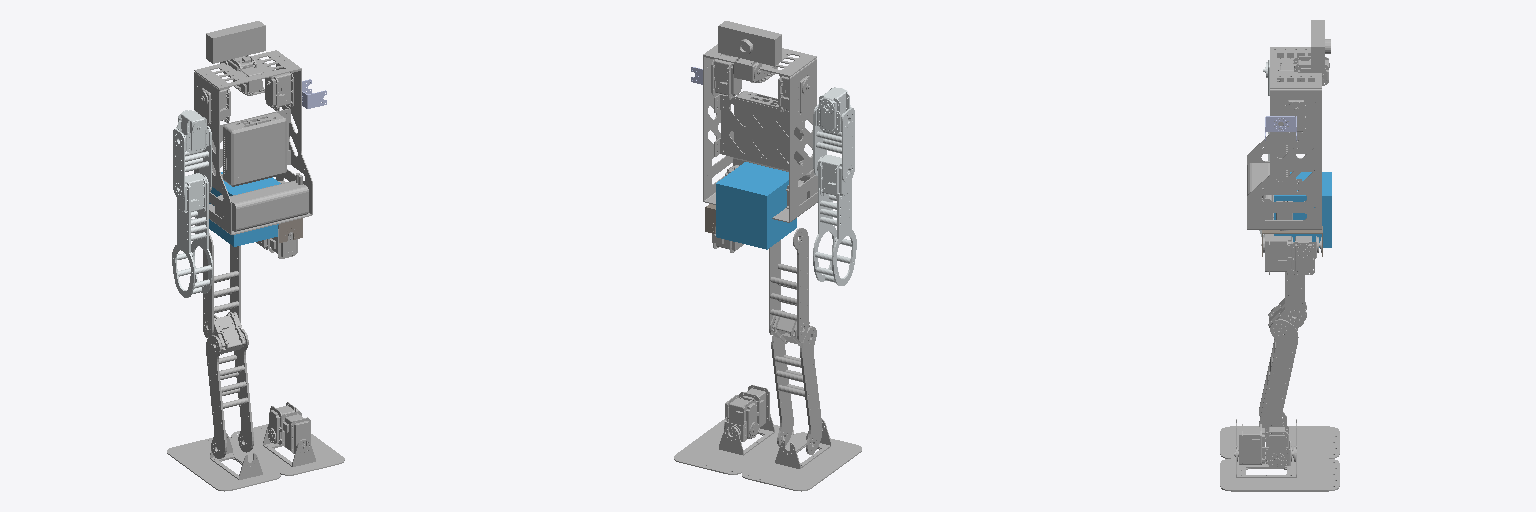
--- What the picture shows (computed from the rendered views, not written in the file) ---
3 views of the same robot in one strip: view 1: azimuth 30°, elevation 25°; view 2: azimuth 150°, elevation 25°; view 3: azimuth 270°, elevation 25° (orthographic).
Robot: SAKURA — 22 links, 21 joints (19 continuous, 1 fixed, 1 floating); root link world; default pose: every joint at zero.
Links seen in each view (by area): view 1: TRUNK, LLEG3, LARM2, LFOOT, LLEG2, LARM1, RFOOT, HEAD, RLEG4, imu_link, RLEG1; view 2: TRUNK, imu_link, LFOOT, LARM2, LLEG3, LLEG2, RFOOT, LARM1, HEAD, RLEG4; view 3: TRUNK, RFOOT, LLEG3, RLEG4, LFOOT, RLEG1, LLEG2, HEAD, imu_link.
Boxes of the visible links, left/top/right/bottom form: TRUNK: left=194, top=50, right=312, bottom=234; LLEG3: left=206, top=329, right=253, bottom=458; LARM2: left=172, top=173, right=212, bottom=297; LFOOT: left=167, top=433, right=280, bottom=491; LLEG2: left=203, top=233, right=245, bottom=354; LARM1: left=173, top=110, right=211, bottom=199; RFOOT: left=231, top=424, right=344, bottom=475; HEAD: left=206, top=21, right=265, bottom=80; RLEG4: left=268, top=402, right=310, bottom=453; imu_link: left=209, top=172, right=280, bottom=246; RLEG1: left=256, top=225, right=297, bottom=258; TRUNK: left=703, top=44, right=817, bottom=222; imu_link: left=716, top=162, right=796, bottom=249; LFOOT: left=742, top=419, right=861, bottom=491; LARM2: left=813, top=155, right=856, bottom=285; LLEG3: left=771, top=326, right=822, bottom=454; LLEG2: left=769, top=228, right=810, bottom=346; RFOOT: left=674, top=414, right=793, bottom=474; LARM1: left=813, top=87, right=854, bottom=182; HEAD: left=718, top=21, right=781, bottom=82; RLEG4: left=724, top=385, right=769, bottom=441; TRUNK: left=1247, top=47, right=1321, bottom=230; RFOOT: left=1220, top=446, right=1339, bottom=491; LLEG3: left=1259, top=306, right=1298, bottom=437; RLEG4: left=1234, top=424, right=1295, bottom=467; LFOOT: left=1220, top=419, right=1339, bottom=458; RLEG1: left=1261, top=234, right=1321, bottom=274; LLEG2: left=1268, top=269, right=1306, bottom=331; HEAD: left=1293, top=20, right=1330, bottom=85; imu_link: left=1274, top=172, right=1331, bottom=247.
Bounding box of the posed robot: 0.291 × 0.208 × 0.8159 m (x, y, z).
12 mesh visuals loaded from 20 distinct referenced files (12 binary STL); not drawn: 8 (reference not matched to a file when rendering).

robot.urdf — SAKURA:
<?xml version="1.0"?>
<robot
  name="SAKURA">	
  <gazebo reference="imu_link">
    <gravity>true</gravity>
    <sensor name="imu_sensor" type="imu">
      <always_on>true</always_on>
      <update_rate>125</update_rate>
      <visualize>true</visualize>
      <topic>__default_topic__</topic>
      <plugin filename="libgazebo_ros_imu_sensor.so" name="imu_plugin">
        <topicName>imu/data_raw</topicName>
        <bodyName>imu_link</bodyName>
        <updateRateHZ>125.0</updateRateHZ>
        <gaussianNoise>0.0</gaussianNoise>
        <xyzOffset>0 0 0</xyzOffset>
        <rpyOffset>0 0 0</rpyOffset>
        <frameName>imu_link</frameName>
      </plugin>
      <pose>0 0 0 0 0 0</pose>
    </sensor>
  </gazebo>
  <gazebo>
    <plugin filename="libgazebo_ros_control.so" name="gazebo_ros_control">
      <robotNamespace>/SAKURA</robotNamespace>
      <robotSimType>gazebo_ros_control/DefaultRobotHWSim</robotSimType>
    </plugin>
  </gazebo>
  <gazebo reference="J_HEAD">
	<stopErp>0.2</stopErp>
	<provideFeedback>true</provideFeedback>
  </gazebo>  
  <gazebo reference="J_LARM0">
	<stopErp>0.2</stopErp>
	<provideFeedback>true</provideFeedback>
  </gazebo>  
  <gazebo reference="J_LARM1">
	<stopErp>0.2</stopErp>
	<provideFeedback>true</provideFeedback>
  </gazebo>  
  <gazebo reference="J_LARM2">
	<stopErp>0.2</stopErp>
	<provideFeedback>true</provideFeedback>
  </gazebo>  
  <gazebo reference="J_RARM0">
	<stopErp>0.2</stopErp>
	<provideFeedback>true</provideFeedback>
  </gazebo>  
  <gazebo reference="J_RARM1">
	<stopErp>0.2</stopErp>
	<provideFeedback>true</provideFeedback>
  </gazebo>  
  <gazebo reference="J_LLEG0">
	<stopErp>0.2</stopErp>
	<provideFeedback>true</provideFeedback>
  </gazebo>  
  <gazebo reference="J_LLEG1">
	<stopErp>0.2</stopErp>
	<provideFeedback>true</provideFeedback>
  </gazebo>  
  <gazebo reference="J_LLEG2">
	<stopErp>0.2</stopErp>
	<provideFeedback>true</provideFeedback>
  </gazebo>  
  <gazebo reference="J_LLEG3">
	<stopErp>0.2</stopErp>
	<provideFeedback>true</provideFeedback>
  </gazebo>  
  <gazebo reference="J_LLEG4">
	<stopErp>0.2</stopErp>
	<provideFeedback>true</provideFeedback>
  </gazebo>  
  <gazebo reference="J_RLEG0">
	<stopErp>0.2</stopErp>
	<provideFeedback>true</provideFeedback>
  </gazebo>  
  <gazebo reference="J_RLEG1">
	<stopErp>0.2</stopErp>
	<provideFeedback>true</provideFeedback>
  </gazebo>  
  <gazebo reference="J_RLEG2">
	<stopErp>0.2</stopErp>
	<provideFeedback>true</provideFeedback>
  </gazebo>  
  <gazebo reference="J_RLEG3">
	<stopErp>0.2</stopErp>
	<provideFeedback>true</provideFeedback>
  </gazebo>  
  <gazebo reference="J_RLEG4">
	<stopErp>0.2</stopErp>
	<provideFeedback>true</provideFeedback>
  </gazebo> 
  <gazebo reference="J_RARM2">
	<stopErp>0.2</stopErp>
	<provideFeedback>true</provideFeedback>
  </gazebo> 
  <gazebo reference="J_LFOOT">
	<stopErp>0.2</stopErp>
	<provideFeedback>true</provideFeedback>
  </gazebo>  
  <gazebo reference="J_RFOOT">
	<stopErp>0.2</stopErp>
	<provideFeedback>true</provideFeedback>
  </gazebo>  
  <gazebo reference="RFOOT">
    <mu1>1.0</mu1>
    <mu2>1.0</mu2>
    <kp>1220000.0</kp>
    <kd>1.0</kd> <!---->
  </gazebo>
  <gazebo reference="LFOOT">
    <mu1>1.0</mu1>
    <mu2>1.0</mu2>
    <kp>1220000.0</kp>
    <kd>1.0</kd> <!---->
  </gazebo>
  
<!-- FT SENSORS -->
  <gazebo>
	<plugin name="ft_sensor" filename="libgazebo_ros_ft_sensor.so">
	  <updateRate>100.0</updateRate>
	  <topicName>ft_sensor_larm0</topicName>
	  <jointName>J_LARM0</jointName>
	</plugin>
  </gazebo>
  <gazebo>
	<plugin name="ft_sensor" filename="libgazebo_ros_ft_sensor.so">
	  <updateRate>100.0</updateRate>
	  <topicName>ft_sensor_larm1</topicName>
	  <jointName>J_LARM1</jointName>
	</plugin>
  </gazebo>
  <gazebo>
	<plugin name="ft_sensor" filename="libgazebo_ros_ft_sensor.so">
	  <updateRate>100.0</updateRate>
	  <topicName>ft_sensor_larm2</topicName>
	  <jointName>J_LARM2</jointName>
	</plugin>
  </gazebo>
  
  
    <gazebo>
	<plugin name="ft_sensor" filename="libgazebo_ros_ft_sensor.so">
	  <updateRate>100.0</updateRate>
	  <topicName>ft_sensor_rarm0</topicName>
	  <jointName>J_RARM0</jointName>
	</plugin>
  </gazebo>
  <gazebo>
	<plugin name="ft_sensor" filename="libgazebo_ros_ft_sensor.so">
	  <updateRate>100.0</updateRate>
	  <topicName>ft_sensor_rarm1</topicName>
	  <jointName>J_RARM1</jointName>
	</plugin>
  </gazebo>
  <gazebo>
	<plugin name="ft_sensor" filename="libgazebo_ros_ft_sensor.so">
	  <updateRate>100.0</updateRate>
	  <topicName>ft_sensor_rarm2</topicName>
	  <jointName>J_RARM2</jointName>
	</plugin>
  </gazebo>
  
  
  
  <gazebo>
	<plugin name="ft_sensor" filename="libgazebo_ros_ft_sensor.so">
	  <updateRate>100.0</updateRate>
	  <topicName>ft_sensor_lleg0</topicName>
	  <jointName>J_LLEG0</jointName>
	</plugin>
  </gazebo>
    <gazebo>
	<plugin name="ft_sensor" filename="libgazebo_ros_ft_sensor.so">
	  <updateRate>100.0</updateRate>
	  <topicName>ft_sensor_lleg1</topicName>
	  <jointName>J_LLEG1</jointName>
	</plugin>
  </gazebo>
    <gazebo>
	<plugin name="ft_sensor" filename="libgazebo_ros_ft_sensor.so">
	  <updateRate>100.0</updateRate>
	  <topicName>ft_sensor_lleg2</topicName>
	  <jointName>J_LLEG2</jointName>
	</plugin>
  </gazebo>
    <gazebo>
	<plugin name="ft_sensor" filename="libgazebo_ros_ft_sensor.so">
	  <updateRate>100.0</updateRate>
	  <topicName>ft_sensor_lleg3</topicName>
	  <jointName>J_LLEG3</jointName>
	</plugin>
  </gazebo>
    <gazebo>
	<plugin name="ft_sensor" filename="libgazebo_ros_ft_sensor.so">
	  <updateRate>100.0</updateRate>
	  <topicName>ft_sensor_lleg4</topicName>
	  <jointName>J_LLEG4</jointName>
	</plugin>
  </gazebo>
    <gazebo>
	<plugin name="ft_sensor" filename="libgazebo_ros_ft_sensor.so">
	  <updateRate>100.0</updateRate>
	  <topicName>ft_sensor_lfoot</topicName>
	  <jointName>J_LFOOT</jointName>
	</plugin>
  </gazebo>
  
    <gazebo>
	<plugin name="ft_sensor" filename="libgazebo_ros_ft_sensor.so">
	  <updateRate>100.0</updateRate>
	  <topicName>ft_sensor_rleg0</topicName>
	  <jointName>J_RLEG0</jointName>
	</plugin>
  </gazebo>
    <gazebo>
	<plugin name="ft_sensor" filename="libgazebo_ros_ft_sensor.so">
	  <updateRate>100.0</updateRate>
	  <topicName>ft_sensor_rleg1</topicName>
	  <jointName>J_RLEG1</jointName>
	</plugin>
  </gazebo>
    <gazebo>
	<plugin name="ft_sensor" filename="libgazebo_ros_ft_sensor.so">
	  <updateRate>100.0</updateRate>
	  <topicName>ft_sensor_rleg2</topicName>
	  <jointName>J_RLEG2</jointName>
	</plugin>
  </gazebo>
    <gazebo>
	<plugin name="ft_sensor" filename="libgazebo_ros_ft_sensor.so">
	  <updateRate>100.0</updateRate>
	  <topicName>ft_sensor_rleg3</topicName>
	  <jointName>J_RLEG3</jointName>
	</plugin>
  </gazebo>
    <gazebo>
	<plugin name="ft_sensor" filename="libgazebo_ros_ft_sensor.so">
	  <updateRate>100.0</updateRate>
	  <topicName>ft_sensor_rleg4</topicName>
	  <jointName>J_RLEG4</jointName>
	</plugin>
  </gazebo>
    <gazebo>
	<plugin name="ft_sensor" filename="libgazebo_ros_ft_sensor.so">
	  <updateRate>100.0</updateRate>
	  <topicName>ft_sensor_rfoot</topicName>
	  <jointName>J_RFOOT</jointName>
	</plugin>
  </gazebo>
  
  
  

  <link name="world">  </link>
  
  <link name="imu_link">
    <collision>
      <origin xyz="0 0 0" rpy="0 0 0"/>
      <geometry>
    <box size="0.1 0.1 0.1"/>
      </geometry>
    </collision>

    <visual>
      <origin xyz="0 0 0" rpy="0 0 0"/>
      <geometry>
    <box size="0.1 0.1 0.1"/>
      </geometry>
      <material name="red"/>
    </visual>

    <inertial>
      <mass value="1e-5" />
      <origin xyz="0 0 0" rpy="0 0 0"/>
      <inertia ixx="1e-6" ixy="0" ixz="0" iyy="1e-6" iyz="0" izz="1e-6" />
    </inertial>
  </link>
  <joint name="imu_joint" type="fixed">
    <axis xyz="0 1 0" />
    <origin xyz="0 0 0" rpy="0 0 0"/>
    <parent link="TRUNK"/>
    <child link="imu_link"/>
  </joint>
  
  
  
  
  <link
    name="TRUNK">
    <inertial>
      <origin
        xyz="-0.000142944293532541 -0.0159940135836359 0.119253638413231"
        rpy="0 0 0" />
      <mass
        value="1.4778155091901" />
      <inertia
        ixx="0.0125398154437975"
        ixy="-2.68478156217668E-06"
        ixz="-7.17353402812125E-06"
        iyy="0.016695640033345"
        iyz="0.000776177026664091"
        izz="0.01567882258573842" />
    </inertial>
    <visual>
      <origin
        xyz="0 0 0"
        rpy="0 0 0" />
      <geometry>
        <mesh
          filename="package://sakura_description/meshes/TRUNK.STL" />
      </geometry>
      <material
        name="">
        <color
          rgba="0.752941176470588 0.752941176470588 0.752941176470588 1" />
      </material>
    </visual>
  </link>
  <joint name="fixed" type="floating">
    <parent link="world"/>
    <child link="TRUNK"/>
    <origin xyz="0 0 0.50" rpy="0 0 0"/>
  </joint>
  <link
    name="HEAD">
    <inertial>
      <origin
        xyz="-0.0038811 0.012249 0.048965"
        rpy="0 0 0" />
      <mass
        value="0.21462" />
      <inertia
        ixx="0.00110122"
        ixy="8.917E-07"
        ixz="4.6738E-06"
        iyy="0.001"
        iyz="-1.8633E-05"
        izz="0.001" />
    </inertial>
    <visual>
      <origin
        xyz="0 0 0"
        rpy="0 0 0" />
      <geometry>
        <mesh
          filename="package://sakura_description/meshes/HEAD.STL" />
      </geometry>
      <material
        name="">
        <color
          rgba="0.75294 0.75294 0.75294 1" />
      </material>
    </visual>
  </link>
  <joint
    name="J_HEAD"
    type="continuous">
    <origin
      xyz="0.0016 0.01125 0.2484"
      rpy="-1.2005E-15 -9.4278E-17 -2.3904E-16" />
    <parent
      link="TRUNK" />
    <child
      link="HEAD" />
    <axis
      xyz="0 0 1" />
    <limit
      effort="10"
      velocity="8.58" />
    <dynamics 
	  damping="0.7"
	  friction="0.5"/>
  </joint>
  <link
    name="LARM0">
    <inertial>
      <origin
        xyz="4.16333634234434E-17 2.77555756156289E-17 0.0103025666414173"
        rpy="0 0 0" />
      <mass
        value="0.0066175226097181" />
      <inertia
        ixx="1.E-03"
        ixy="0"
        ixz="0"
        iyy="1.E-03"
        iyz="0"
        izz="1.E-03" />
    </inertial>
    <visual>
      <origin
        xyz="0 0 0"
        rpy="0 0 0" />
      <geometry>
        <mesh
          filename="package://sakura_description/meshes/LARM0.STL" />
      </geometry>
      <material
        name="">
        <color
          rgba="0.792156862745098 0.819607843137255 0.933333333333333 1" />
      </material>
    </visual>
  </link>
  <joint
    name="J_LARM0"
    type="continuous">
    <origin
      xyz="-0.0935 -0.038 0.209"
      rpy="1.5708 3.14159 -1.5708" />
    <parent
      link="TRUNK" />
    <child
      link="LARM0" />
    <axis
      xyz="0 0 -1" />
    <limit
      effort="10"
      velocity="8.58" />
    <dynamics 
     damping="0.7"
     friction="0.5"/>
  </joint>
  <link
    name="LARM1">
    <inertial>
      <origin
        xyz="-0.000203905909046856 -0.0358166170046635 -0.030724518771744"
        rpy="0 0 0" />
      <mass
        value="0.386889741732442" />
      <inertia
        ixx="0.001319462933467775"
        ixy="-7.00859671208955E-06"
        ixz="-6.33921748509821E-09"
        iyy="0.001"
        iyz="6.46973244600118E-07"
        izz="0.001386423060557297" />
    </inertial>
    <visual>
      <origin
        xyz="0 0 0"
        rpy="0 0 0" />
      <geometry>
        <mesh
          filename="package://sakura_description/meshes/LARM1.STL" />
      </geometry>
      <material
        name="">
        <color
          rgba="0.898039215686275 0.92156862745098 0.929411764705882 1" />
      </material>
    </visual>
  </link>
  <joint
    name="J_LARM1"
    type="continuous">
    <origin
      xyz="-0.0308 0 0.036"
      rpy="3.1416 1.5708 0" />
    <parent
      link="LARM0" />
    <child
      link="LARM1" />
    <axis
      xyz="0 0 1" />
    <limit
      effort="10"
      velocity="8.58" />
        <dynamics 
     damping="0.7"
     friction="0.5"/>
  </joint>
  <link
    name="LARM2">
    <inertial>
      <origin
        xyz="-0.000946892853796732 -0.0604743903550126 -0.030549305382329"
        rpy="0 0 0" />
      <mass
        value="0.417770884687889" />
      <inertia
        ixx="0.00130365609096481"
        ixy="-2.20058971275383E-05"
        ixz="-1.13235654810576E-07"
        iyy="0.001"
        iyz="-4.76741794550902E-06"
        izz="0.00130522583526536" />
    </inertial>
    <visual>
      <origin
        xyz="0 0 0"
        rpy="0 0 0" />
      <geometry>
        <mesh
          filename="package://sakura_description/meshes/LARM2.STL" />
      </geometry>
      <material
        name="">
        <color
          rgba="0.898039215686275 0.92156862745098 0.929411764705882 1" />
      </material>
    </visual>
  </link>
  <joint
    name="J_LARM2"
    type="continuous">
    <origin
      xyz="0.0307 -0.1235 -0.0308"
      rpy="0 1.5708 0" />
    <parent
      link="LARM1" />
    <child
      link="LARM2" />
    <axis
      xyz="0 0 1" />
    <limit
      effort="10"
      velocity="8.58" />
        <dynamics 
     damping="0.7"
     friction="0.5"/>
  </joint>
  <link
    name="RARM0">
    <inertial>
      <origin
        xyz="-4.16333634234434E-17 0 0.0103025666414173"
        rpy="0 0 0" />
      <mass
        value="0.00661752260971814" />
      <inertia
        ixx="1.E-03"
        ixy="0"
        ixz="0"
        iyy="1.E-03"
        iyz="0"
        izz="1.E-03" />
    </inertial>
    <visual>
      <origin
        xyz="0 0 0"
        rpy="0 0 0" />
      <geometry>
        <mesh
          filename="package://sakura_description/meshes/RARM0.STL" />
      </geometry>
      <material
        name="">
        <color
          rgba="0.792156862745098 0.819607843137255 0.933333333333333 1" />
      </material>
    </visual>
  </link>
  <joint
    name="J_RARM0"
    type="continuous">
    <origin
      xyz="0.0935 -0.038 0.209"
      rpy="-1.5708 -6.1121E-16 -1.5708" />
    <parent
      link="TRUNK" />
    <child
      link="RARM0" />
    <axis
      xyz="0 0 1" />
    <limit
      effort="10"
      velocity="8.58" />
        <dynamics 
     damping="0.7"
     friction="0.5"/>
  </joint>
  <link
    name="RARM1">
    <inertial>
      <origin
        xyz="-0.00020391 -0.035817 -0.030725"
        rpy="0 0 0" />
      <mass
        value="0.38689" />
      <inertia
        ixx="0.00131946"
        ixy="-7.0086E-06"
        ixz="-6.3392E-09"
        iyy="0.001"
        iyz="6.4697E-07"
        izz="0.00138642" />
    </inertial>
    <visual>
      <origin
        xyz="0 0 0"
        rpy="0 0 0" />
      <geometry>
        <mesh
          filename="package://sakura_description/meshes/RARM1.STL" />
      </geometry>
      <material
        name="">
        <color
          rgba="0.89804 0.92157 0.92941 1" />
      </material>
    </visual>
  </link>
  <joint
    name="J_RARM1"
    type="continuous">
    <origin
      xyz="-0.0308 0 0.036"
      rpy="3.1416 1.5708 0" />
    <parent
      link="RARM0" />
    <child
      link="RARM1" />
    <axis
      xyz="0 0 1" />
    <limit
      effort="10"
      velocity="8.58" />
        <dynamics 
     damping="0.7"
     friction="0.5"/>
  </joint>
  <link
    name="RARM2">
    <inertial>
      <origin
        xyz="-0.000946892853796774 -0.0604743903550127 -0.0305493053823289"
        rpy="0 0 0" />
      <mass
        value="0.417770884687889" />
      <inertia
        ixx="0.00130365609096481"
        ixy="-2.20058971275389E-05"
        ixz="-1.13235654810633E-07"
        iyy="0.001"
        iyz="-4.76741794550966E-06"
        izz="0.00130522583526536" />
    </inertial>
    <visual>
      <origin
        xyz="0 0 0"
        rpy="0 0 0" />
      <geometry>
        <mesh
          filename="package://sakura_description/meshes/RARM2.STL" />
      </geometry>
      <material
        name="">
        <color
          rgba="0.898039215686275 0.92156862745098 0.929411764705882 1" />
      </material>
    </visual>
  </link>
  <joint
    name="J_RARM2"
    type="continuous">
    <origin
      xyz="0.0307 -0.1235 -0.0308"
      rpy="0 1.5708 0" />
    <parent
      link="RARM1" />
    <child
      link="RARM2" />
    <axis
      xyz="0 0 -1" />
    <limit
      effort="10"
      velocity="8.58" />
        <dynamics 
     damping="0.7"
     friction="0.5"/>
  </joint>
  <link
    name="LLEG0">
    <inertial>
      <origin
        xyz="1.38777878078145E-17 1.38777878078145E-17 0.012339611662812"
        rpy="0 0 0" />
      <mass
        value="0.137487098095279" />
      <inertia
        ixx="0.001"
        ixy="0"
        ixz="0"
        iyy="0.001"
        iyz="0"
        izz="0.001" />
    </inertial>
    <visual>
      <origin
        xyz="0 0 0"
        rpy="0 0 0" />
      <geometry>
        <mesh
          filename="package://sakura_description/meshes/LLEG0.STL" />
      </geometry>
      <material
        name="">
        <color
          rgba="0.650980392156863 0.619607843137255 0.588235294117647 1" />
      </material>
    </visual>
  </link>
  <joint
    name="J_LLEG0"
    type="continuous">
    <origin
      xyz="-0.055 -0.018 -0.005"
      rpy="-3.14159265358979 1.21430643318376E-16 -1.5707963267949" />
    <parent
      link="TRUNK" />
    <child
      link="LLEG0" />
    <axis
      xyz="0 0 -1" />
    <limit
      effort="10"
      velocity="8.58" />
        <dynamics 
     damping="0.7"
     friction="0.5"/>
  </joint>
  <link
    name="LLEG1">
    <inertial>
      <origin
        xyz="-4.90216563097182E-05 -0.014933566350856 -0.0542307430726147"
        rpy="0 0 0" />
      <mass
        value="0.484317524341268" />
      <inertia
        ixx="0.001258532465487086"
        ixy="-1.08430216395215E-08"
        ixz="-4.93107012410751E-07"
        iyy="0.001256538006237082"
        iyz="8.86337248194806E-06"
        izz="0.001" />
    </inertial>
    <visual>
      <origin
        xyz="0 0 0"
        rpy="0 0 0" />
      <geometry>
        <mesh
          filename="package://sakura_description/meshes/LLEG1.STL" />
      </geometry>
      <material
        name="">
        <color
          rgba="0.752941176470588 0.752941176470588 0.752941176470588 1" />
      </material>
    </visual>
  </link>
  <joint
    name="J_LLEG1"
    type="continuous">
    <origin
      xyz="0.056 0 0.036"
      rpy="-1.5707963267949 -1.22338662637834E-16 -1.5707963267949" />
    <parent
      link="LLEG0" />
    <child
      link="LLEG1" />
    <axis
      xyz="0 0 -1" />
    <limit
      effort="10"
      velocity="8.58" />
        <dynamics 
     damping="0.7"
     friction="0.5"/>
  </joint>
  <link
    name="LLEG2">
    <inertial>
      <origin
        xyz="0.0896135033902749 -0.121669815792639 -0.0285739776731877"
        rpy="0 0 0" />
      <mass
        value="0.429581814867276" />
      <inertia
        ixx="0.001739443276879588"
        ixy="0.000469298592224479"
        ixz="-4.17657698668898E-06"
        iyy="0.00145781924000273"
        iyz="4.49877955818474E-06"
        izz="0.00100793675092908" />
    </inertial>
    <visual>
      <origin
        xyz="0 0 0"
        rpy="0 0 0" />
      <geometry>
        <mesh
          filename="package://sakura_description/meshes/LLEG2.STL" />
      </geometry>
      <material
        name="">
        <color
          rgba="0.752941176470588 0.752941176470588 0.752941176470588 1" />
      </material>
    </visual>
  </link>
  <joint
    name="J_LLEG2"
    type="continuous">
    <origin
      xyz="0.0289999999999999 0 -0.0750000000000234"
      rpy="-1.5707963267949 0.78539816339745 -1.5707963267949" />
    <parent
      link="LLEG1" />
    <child
      link="LLEG2" />
    <axis
      xyz="0 0 1" />
    <limit
      effort="10"
      velocity="8.58" />
        <dynamics 
     damping="0.7"
     friction="0.5"/>
  </joint>
  <link
    name="LLEG3">
    <inertial>
      <origin
        xyz="0.0938607247050214 0.021121469241447 -0.0266864244548486"
        rpy="0 0 0" />
      <mass
        value="0.253457988874213" />
      <inertia
        ixx="0.001157893827081503"
        ixy="4.33507693026071E-06"
        ixz="2.38137513758817E-06"
        iyy="0.001215254509125973"
        iyz="4.49605098935315E-06"
        izz="0.001" />
    </inertial>
    <visual>
      <origin
        xyz="0 0 0"
        rpy="0 0 0" />
      <geometry>
        <mesh
          filename="package://sakura_description/meshes/LLEG3.STL" />
      </geometry>
      <material
        name="">
        <color
          rgba="0.752941176470588 0.752941176470588 0.752941176470588 1" />
      </material>
    </visual>
  </link>
  <joint
    name="J_LLEG3"
    type="continuous">
    <origin
      xyz="0.112429978208667 -0.169643181644254 0.00160000000000024"
      rpy="-0.0320557226319531 0.0283578707512148 -1.01721646459287" />
    <parent
      link="LLEG2" />
    <child
      link="LLEG3" />
    <axis
      xyz="0.0283540701513945 0.0320373469653184 -0.999084408398647" />
    <limit
      effort="10"
      velocity="8.58" />
        <dynamics 
     damping="0.7"
     friction="0.5"/>  
  </joint>
  <link
    name="LLEG4">
    <inertial>
      <origin
        xyz="0.0207692569273853 -0.0149335663508559 -0.0309509783436903"
        rpy="0 0 0" />
      <mass
        value="0.484317524341267" />
      <inertia
        ixx="0.001"
        ixy="8.86337248194725E-06"
        ixz="4.93107012410836E-07"
        iyy="0.001256538006237082"
        iyz="1.08430216395228E-08"
        izz="0.001258532465487085" />
    </inertial>
    <visual>
      <origin
        xyz="0 0 0"
        rpy="0 0 0" />
      <geometry>
        <mesh
          filename="package://sakura_description/meshes/LLEG4.STL" />
      </geometry>
      <material
        name="">
        <color
          rgba="0.752941176470588 0.752941176470588 0.752941176470588 1" />
      </material>
    </visual>
  </link>
  <joint
    name="J_LLEG4"
    type="continuous">
    <origin
      xyz="0.19759 0.040682 0.007913"
      rpy="0.034963 0.024684 -1.339" />
    <parent
      link="LLEG3" />
    <child
      link="LLEG4" />
    <axis
      xyz="0 0 1" />
    <limit
      effort="10"
      velocity="8.58" />
        <dynamics 
     damping="0.7"
     friction="0.5"/>
  </joint>
  <link
    name="LFOOT">
    <inertial>
      <origin
        xyz="-0.00984398078216434 0.033081446163245 0.0742424926896279"
        rpy="0 0 0" />
      <mass
        value="0.474832547151362" />
      <inertia
        ixx="0.001"
        ixy="8.95545085142721E-06"
        ixz="2.1883900378474E-05"
        iyy="0.001"
        iyz="-1.93251189181957E-05"
        izz="0.001" />
    </inertial>
    <visual>
      <origin
        xyz="0 0 0"
        rpy="0 0 0" />
      <geometry>
        <mesh
          filename="package://sakura_description/meshes/LFOOT.STL" />
      </geometry>
      <material
        name="">
        <color
          rgba="0.752941176470588 0.752941176470588 0.752941176470588 1" />
      </material>
    </visual>
    <collision>
      <origin
        xyz="0 0 0"
        rpy="0 0 0" />
      <geometry>
        <mesh
          filename="package://sakura_description/meshes/LFOOT.STL" />
      </geometry>
    </collision>
  </link>
  <joint
    name="J_LFOOT"
    type="continuous">
    <origin
      xyz="0.072 0 -0.031"
      rpy="0 -1.5708 0" />
    <parent
      link="LLEG4" />
    <child
      link="LFOOT" />
    <axis
      xyz="0 0 -1" />
    <limit
      effort="10"
      velocity="8.58" />
        <dynamics 
     damping="0.7"
     friction="0.5"/>
  </joint>
  <link
    name="RLEG0">
    <inertial>
      <origin
        xyz="0 1.38777878078145E-17 0.012339611662812"
        rpy="0 0 0" />
      <mass
        value="0.137487098095279" />
      <inertia
        ixx="0.001"
        ixy="0"
        ixz="0"
        iyy="0.001"
        iyz="0"
        izz="0.001" />
    </inertial>
    <visual>
      <origin
        xyz="0 0 0"
        rpy="0 0 0" />
      <geometry>
        <mesh
          filename="package://sakura_description/meshes/RLEG0.STL" />
      </geometry>
      <material
        name="">
        <color
          rgba="0.650980392156863 0.619607843137255 0.588235294117647 1" />
      </material>
    </visual>
  </link>
  <joint
    name="J_RLEG0"
    type="continuous">
    <origin
      xyz="0.055 -0.018 -0.005"
      rpy="-3.14159265358979 1.21430643318376E-16 -1.5707963267949" />
    <parent
      link="TRUNK" />
    <child
      link="RLEG0" />
    <axis
      xyz="0 0 1" />
    <limit
      effort="10"
      velocity="8.58" />
        <dynamics 
     damping="0.7"
     friction="0.5"/>
  </joint>
  <link
    name="RLEG1">
    <inertial>
      <origin
        xyz="-4.9022E-05 -0.014934 -0.054231"
        rpy="0 0 0" />
      <mass
        value="0.48432" />
      <inertia
        ixx="0.00125853"
        ixy="-1.0843E-08"
        ixz="-4.9311E-07"
        iyy="0.00125654"
        iyz="8.8634E-06"
        izz="0.001" />
    </inertial>
    <visual>
      <origin
        xyz="0 0 0"
        rpy="0 0 0" />
      <geometry>
        <mesh
          filename="package://sakura_description/meshes/RLEG1.STL" />
      </geometry>
      <material
        name="">
        <color
          rgba="0.75294 0.75294 0.75294 1" />
      </material>
    </visual>
  </link>
  <joint
    name="J_RLEG1"
    type="continuous">
    <origin
      xyz="0.056 0 0.036"
      rpy="-1.5707963267949 2.66239395980971E-16 -1.5707963267949" />
    <parent
      link="RLEG0" />
    <child
      link="RLEG1" />
    <axis
      xyz="0 0 1" />
    <limit
      effort="10"
      velocity="8.58" />
        <dynamics 
     damping="0.7"
     friction="0.5"/>
  </joint>
  <link
    name="RLEG2">
    <inertial>
      <origin
        xyz="0.089613503390275 -0.121669815792639 -0.0285739776731877"
        rpy="0 0 0" />
      <mass
        value="0.429581814867276" />
      <inertia
        ixx="0.001739443276879589"
        ixy="0.00046929859222448"
        ixz="-4.17657698668821E-06"
        iyy="0.001457819240002731"
        iyz="4.49877955818371E-06"
        izz="0.00100793675092908" />
    </inertial>
    <visual>
      <origin
        xyz="0 0 0"
        rpy="0 0 0" />
      <geometry>
        <mesh
          filename="package://sakura_description/meshes/RLEG2.STL" />
      </geometry>
      <material
        name="">
        <color
          rgba="0.752941176470588 0.752941176470588 0.752941176470588 1" />
      </material>
    </visual>
  </link>
  <joint
    name="J_RLEG2"
    type="continuous">
    <origin
      xyz="0.0290000000000001 0 -0.075"
      rpy="-1.5707963267949 0.78539816339745 -1.5707963267949" />
    <parent
      link="RLEG1" />
    <child
      link="RLEG2" />
    <axis
      xyz="0 0 1" />
    <limit
      effort="10"
      velocity="8.58" />
        <dynamics 
     damping="0.7"
     friction="0.5"/>
  </joint>
  <link
    name="RLEG3">
    <inertial>
      <origin
        xyz="0.093861 0.021121 -0.026686"
        rpy="0 0 0" />
      <mass
        value="0.25346" />
      <inertia
        ixx="0.00115789"
        ixy="4.3351E-06"
        ixz="2.3814E-06"
        iyy="0.00121525"
        iyz="4.4961E-06"
        izz="0.001" />
    </inertial>
    <visual>
      <origin
        xyz="0 0 0"
        rpy="0 0 0" />
      <geometry>
        <mesh
          filename="package://sakura_description/meshes/RLEG3.STL" />
      </geometry>
      <material
        name="">
        <color
          rgba="0.75294 0.75294 0.75294 1" />
      </material>
    </visual>
  </link>
  <joint
    name="J_RLEG3"
    type="continuous">
    <origin
      xyz="0.112429978208668 -0.169643181644253 0.00160000000000014"
      rpy="-0.0320557226319534 0.0283578707512146 -1.01721646459286" />
    <parent
      link="RLEG2" />
    <child
      link="RLEG3" />
    <axis
      xyz="0.0283540701513948 0.0320373469653193 -0.999084408398647" />
    <limit
      effort="10"
      velocity="8.58" />
        <dynamics 
     damping="0.7"
     friction="0.5"/>
  </joint>
  <link
    name="RLEG4">
    <inertial>
      <origin
        xyz="0.0207692569273853 -0.014933566350856 -0.0309509783436903"
        rpy="0 0 0" />
      <mass
        value="0.484317524341268" />
      <inertia
        ixx="0.001"
        ixy="8.86337248194835E-06"
        ixz="4.93107012410999E-07"
        iyy="0.001256538006237082"
        iyz="1.08430216395282E-08"
        izz="0.001258532465487085" />
    </inertial>
    <visual>
      <origin
        xyz="0 0 0"
        rpy="0 0 0" />
      <geometry>
        <mesh
          filename="package://sakura_description/meshes/RLEG4.STL" />
      </geometry>
      <material
        name="">
        <color
          rgba="0.752941176470588 0.752941176470588 0.752941176470588 1" />
      </material>
    </visual>
  </link>
  <joint
    name="J_RLEG4"
    type="continuous">
    <origin
      xyz="0.19759 0.040682 0.007913"
      rpy="0.034963 0.024684 -1.339" />
    <parent
      link="RLEG3" />
    <child
      link="RLEG4" />
    <axis
      xyz="0 0 1" />
    <limit
      effort="10"
      velocity="8.58" />
        <dynamics 
     damping="0.7"
     friction="0.5"/>
  </joint>
  <link
    name="RFOOT">
    <inertial>
      <origin
        xyz="0.009844 0.033081 0.074242"
        rpy="0 0 0" />
      <mass
        value="0.47483" />
      <inertia
        ixx="0.001"
        ixy="-8.9555E-06"
        ixz="-2.1884E-05"
        iyy="0.001"
        iyz="-1.9325E-05"
        izz="0.001" />
    </inertial>
    <visual>
      <origin
        xyz="0 0 0"
        rpy="0 0 0" />
      <geometry>
        <mesh
          filename="package://sakura_description/meshes/RFOOT.STL" />
      </geometry>
      <material
        name="">
        <color
          rgba="0.75294 0.75294 0.75294 1" />
      </material>
    </visual>
    <collision>
      <origin
        xyz="0 0 0"
        rpy="0 0 0" />
      <geometry>
        <mesh
          filename="package://sakura_description/meshes/RFOOT.STL" />
      </geometry>
    </collision>
  </link>
  <joint
    name="J_RFOOT"
    type="continuous">
    <origin
      xyz="0.072 0 -0.031"
      rpy="0 -1.5708 0" />
    <parent
      link="RLEG4" />
    <child
      link="RFOOT" />
    <axis
      xyz="0 0 -1" />
    <limit
      effort="10"
      velocity="8.58" />
        <dynamics 
     damping="0.7"
     friction="0.5"/>
  </joint>
  
  <transmission name="T_RARM0">
	<type>transmission_interface/SimpleTransmission</type>
	<joint name="J_RARM0">
	  <hardwareInterface>hardware_interface/EffortJointInterface</hardwareInterface>
	</joint>
	<actuator name="M_RARM0">
	  <hardwareInterface>hardware_interface/EffortJointInterface</hardwareInterface>
	  <mechanicalReduction>1</mechanicalReduction>
	</actuator>
  </transmission>

  <transmission name="T_RARM1">
	<type>transmission_interface/SimpleTransmission</type>
	<joint name="J_RARM1">
	  <hardwareInterface>hardware_interface/EffortJointInterface</hardwareInterface>
	</joint>
	<actuator name="M_RARM1">
	  <hardwareInterface>hardware_interface/EffortJointInterface</hardwareInterface>
	  <mechanicalReduction>1</mechanicalReduction>
	</actuator>
  </transmission>
  
    <transmission name="T_RARM2">
	<type>transmission_interface/SimpleTransmission</type>
	<joint name="J_RARM2">
	  <hardwareInterface>hardware_interface/EffortJointInterface</hardwareInterface>
	</joint>
	<actuator name="M_RARM2">
	  <hardwareInterface>hardware_interface/EffortJointInterface</hardwareInterface>
	  <mechanicalReduction>1</mechanicalReduction>
	</actuator>
  </transmission>
  
    <transmission name="T_LARM0">
	<type>transmission_interface/SimpleTransmission</type>
	<joint name="J_LARM0">
	  <hardwareInterface>hardware_interface/EffortJointInterface</hardwareInterface>
	</joint>
	<actuator name="M_LARM0">
	  <hardwareInterface>hardware_interface/EffortJointInterface</hardwareInterface>
	  <mechanicalReduction>1</mechanicalReduction>
	</actuator>
  </transmission>

  <transmission name="T_LARM1">
	<type>transmission_interface/SimpleTransmission</type>
	<joint name="J_LARM1">
	  <hardwareInterface>hardware_interface/EffortJointInterface</hardwareInterface>
	</joint>
	<actuator name="M_LARM1">
	  <hardwareInterface>hardware_interface/EffortJointInterface</hardwareInterface>
	  <mechanicalReduction>1</mechanicalReduction>
	</actuator>
  </transmission>
  
    <transmission name="T_LARM2">
	<type>transmission_interface/SimpleTransmission</type>
	<joint name="J_LARM2">
	  <hardwareInterface>hardware_interface/EffortJointInterface</hardwareInterface>
	</joint>
	<actuator name="M_LARM2">
	  <hardwareInterface>hardware_interface/EffortJointInterface</hardwareInterface>
	  <mechanicalReduction>1</mechanicalReduction>
	</actuator>
  </transmission>

  
  
  
    <transmission name="T_RLEG0">
	<type>transmission_interface/SimpleTransmission</type>
	<joint name="J_RLEG0">
	  <hardwareInterface>hardware_interface/EffortJointInterface</hardwareInterface>
	</joint>
	<actuator name="M_RLEG0">
	  <hardwareInterface>hardware_interface/EffortJointInterface</hardwareInterface>
	  <mechanicalReduction>1</mechanicalReduction>
	</actuator>
  </transmission>

  <transmission name="T_RLEG1">
	<type>transmission_interface/SimpleTransmission</type>
	<joint name="J_RLEG1">
	  <hardwareInterface>hardware_interface/EffortJointInterface</hardwareInterface>
	</joint>
	<actuator name="M_RLEG1">
	  <hardwareInterface>hardware_interface/EffortJointInterface</hardwareInterface>
	  <mechanicalReduction>1</mechanicalReduction>
	</actuator>
  </transmission>
  
    <transmission name="T_RLEG2">
	<type>transmission_interface/SimpleTransmission</type>
	<joint name="J_RLEG2">
	  <hardwareInterface>hardware_interface/EffortJointInterface</hardwareInterface>
	</joint>
	<actuator name="M_RLEG2">
	  <hardwareInterface>hardware_interface/EffortJointInterface</hardwareInterface>
	  <mechanicalReduction>1</mechanicalReduction>
	</actuator>
  </transmission>
  
    <transmission name="T_RLEG3">
	<type>transmission_interface/SimpleTransmission</type>
	<joint name="J_RLEG3">
	  <hardwareInterface>hardware_interface/EffortJointInterface</hardwareInterface>
	</joint>
	<actuator name="M_RLEG3">
	  <hardwareInterface>hardware_interface/EffortJointInterface</hardwareInterface>
	  <mechanicalReduction>1</mechanicalReduction>
	</actuator>
  </transmission>
  
   <transmission name="T_RLEG4">
	<type>transmission_interface/SimpleTransmission</type>
	<joint name="J_RLEG4">
	  <hardwareInterface>hardware_interface/EffortJointInterface</hardwareInterface>
	</joint>
	<actuator name="M_RLEG4">
	  <hardwareInterface>hardware_interface/EffortJointInterface</hardwareInterface>
	  <mechanicalReduction>1</mechanicalReduction>
	</actuator>
  </transmission>
  
  <transmission name="T_RFOOT">
	<type>transmission_interface/SimpleTransmission</type>
	<joint name="J_RFOOT">
	  <hardwareInterface>hardware_interface/EffortJointInterface</hardwareInterface>
	</joint>
	<actuator name="M_RFOOT">
	  <hardwareInterface>hardware_interface/EffortJointInterface</hardwareInterface>
	  <mechanicalReduction>1</mechanicalReduction>
	</actuator>
  </transmission>


    <transmission name="T_LLEG0">
	<type>transmission_interface/SimpleTransmission</type>
	<joint name="J_LLEG0">
	  <hardwareInterface>hardware_interface/EffortJointInterface</hardwareInterface>
	</joint>
	<actuator name="M_LLEG0">
	  <hardwareInterface>hardware_interface/EffortJointInterface</hardwareInterface>
	  <mechanicalReduction>1</mechanicalReduction>
	</actuator>
  </transmission>

  <transmission name="T_LLEG1">
	<type>transmission_interface/SimpleTransmission</type>
	<joint name="J_LLEG1">
	  <hardwareInterface>hardware_interface/EffortJointInterface</hardwareInterface>
	</joint>
	<actuator name="M_LLEG1">
	  <hardwareInterface>hardware_interface/EffortJointInterface</hardwareInterface>
	  <mechanicalReduction>1</mechanicalReduction>
	</actuator>
  </transmission>
  
    <transmission name="T_LLEG2">
	<type>transmission_interface/SimpleTransmission</type>
	<joint name="J_LLEG2">
	  <hardwareInterface>hardware_interface/EffortJointInterface</hardwareInterface>
	</joint>
	<actuator name="M_LLEG2">
	  <hardwareInterface>hardware_interface/EffortJointInterface</hardwareInterface>
	  <mechanicalReduction>1</mechanicalReduction>
	</actuator>
  </transmission>
  
    <transmission name="T_LLEG3">
	<type>transmission_interface/SimpleTransmission</type>
	<joint name="J_LLEG3">
	  <hardwareInterface>hardware_interface/EffortJointInterface</hardwareInterface>
	</joint>
	<actuator name="M_LLEG3">
	  <hardwareInterface>hardware_interface/EffortJointInterface</hardwareInterface>
	  <mechanicalReduction>1</mechanicalReduction>
	</actuator>
  </transmission>
  
   <transmission name="T_LLEG4">
	<type>transmission_interface/SimpleTransmission</type>
	<joint name="J_LLEG4">
	  <hardwareInterface>hardware_interface/EffortJointInterface</hardwareInterface>
	</joint>
	<actuator name="M_LLEG4">
	  <hardwareInterface>hardware_interface/EffortJointInterface</hardwareInterface>
	  <mechanicalReduction>1</mechanicalReduction>
	</actuator>
  </transmission>
  
  <transmission name="T_LFOOT">
	<type>transmission_interface/SimpleTransmission</type>
	<joint name="J_LFOOT">
	  <hardwareInterface>hardware_interface/EffortJointInterface</hardwareInterface>
	</joint>
	<actuator name="M_LFOOT">
	  <hardwareInterface>hardware_interface/EffortJointInterface</hardwareInterface>
	  <mechanicalReduction>1</mechanicalReduction>
	</actuator>
  </transmission>



  
</robot>
